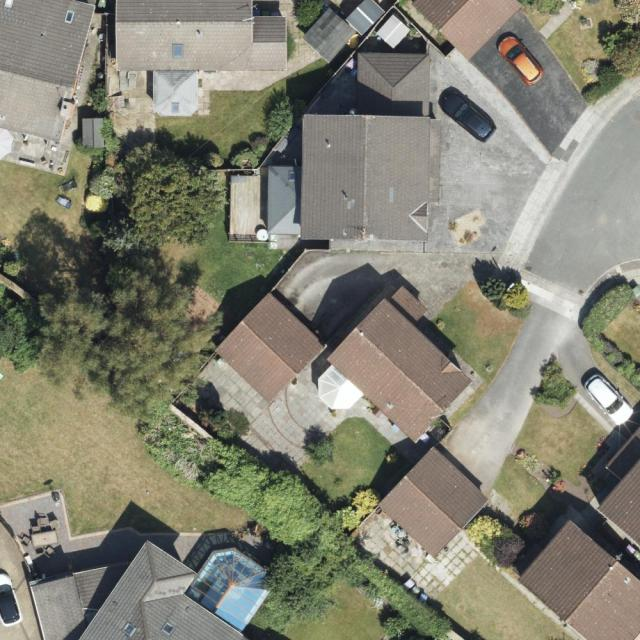roof: (265, 48, 431, 241), (320, 284, 476, 445), (31, 539, 274, 640), (114, 0, 289, 119), (370, 442, 498, 567), (516, 514, 640, 640), (211, 289, 330, 407), (0, 0, 97, 142), (409, 1, 524, 64), (595, 425, 640, 553)
skylight: (185, 546, 272, 634), (62, 7, 77, 29), (120, 620, 138, 638), (168, 42, 187, 59), (160, 620, 177, 637), (170, 99, 181, 112), (6, 0, 18, 7)
